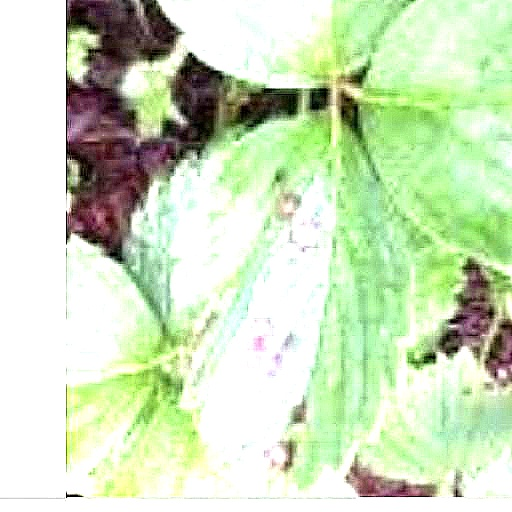Leaf Spot: (95, 15, 392, 406)
